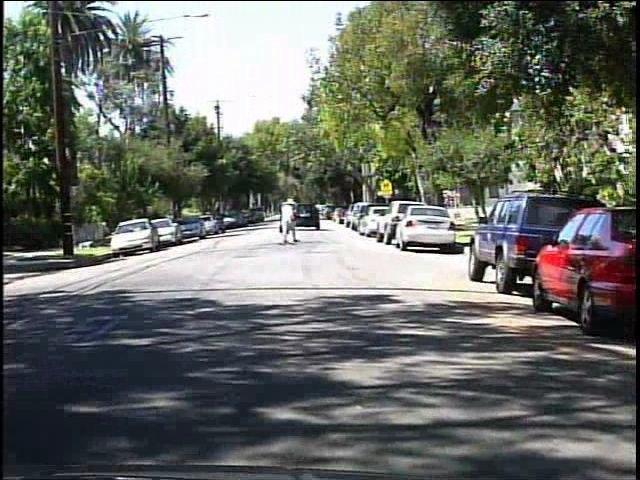person: (275, 194, 303, 244)
